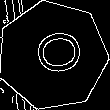O_W: (23, 30, 82, 81)
